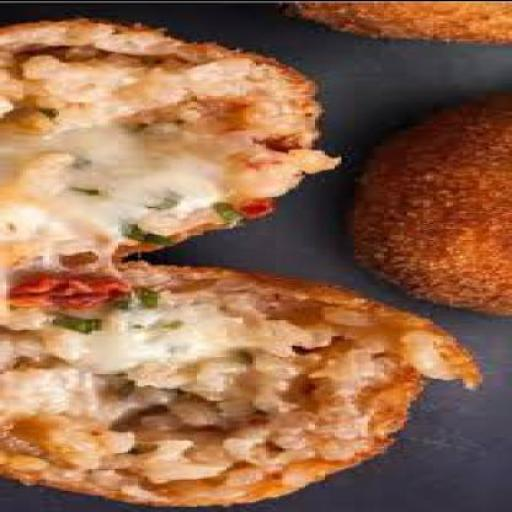biodegradable: (3, 262, 486, 511), (4, 19, 350, 285), (354, 90, 511, 320), (288, 0, 511, 47)
